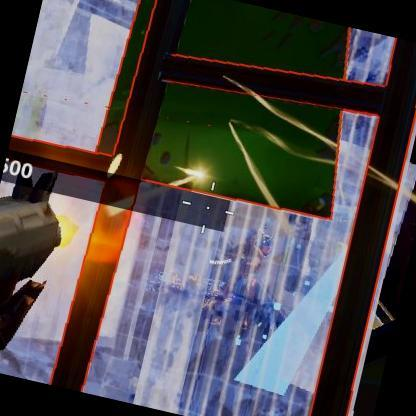person: (220, 224, 275, 314)
